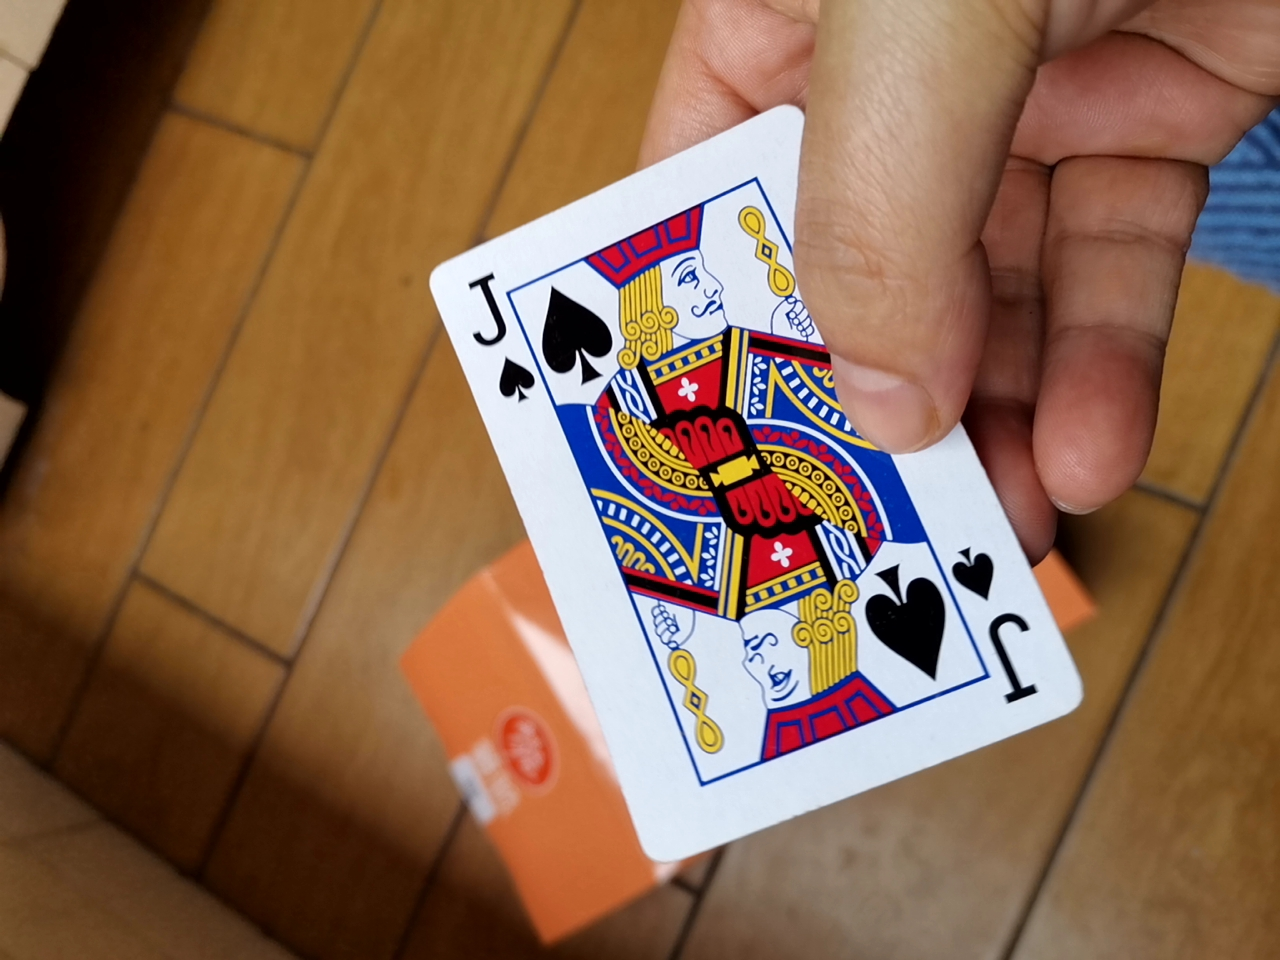ht j: (413, 82, 1080, 890)
